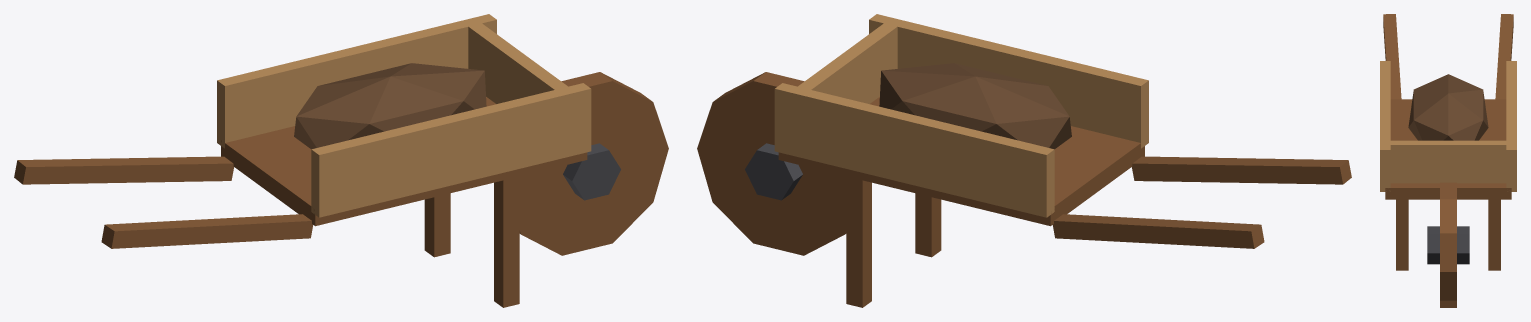
File: Dorf_Schubkarre.fbx
The picture shows the model from 3 angles, left to right: view 1: azimuth 30°, elevation 25°; view 2: azimuth 150°, elevation 25°; view 3: azimuth 270°, elevation 25°; orthographic projection. The views are drawn at different scales.
Parts seen in each view (by area): view 1: Dorf_Schubkarre; view 2: Dorf_Schubkarre; view 3: Dorf_Schubkarre.
Part boxes in pixels (x1,y1,x2,y2): Dorf_Schubkarre: (14, 14, 668, 307); Dorf_Schubkarre: (697, 14, 1351, 307); Dorf_Schubkarre: (1380, 14, 1516, 307).
Bounding box in the file's own units: 2.21 × 0.775 × 0.65.
